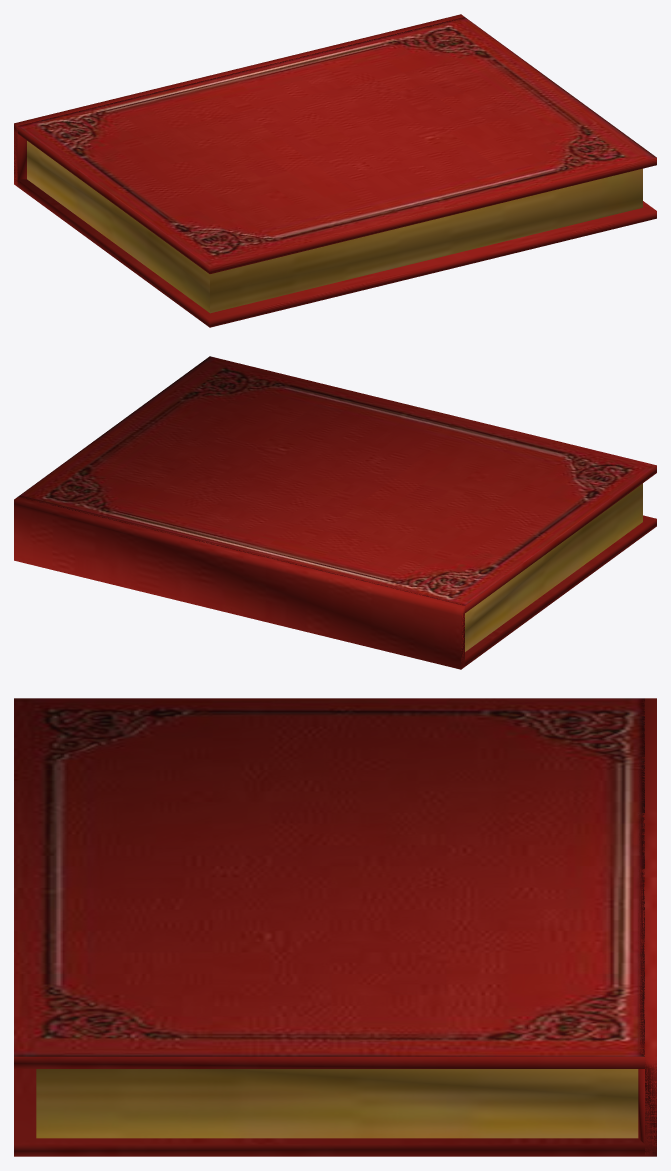
Rendered from Book.obj.
3 views of the same model, one above another, from view 1: azimuth 30°, elevation 25°; view 2: azimuth 150°, elevation 25°; view 3: azimuth 270°, elevation 25° (orthographic). The views are drawn at different scales.
Parts seen in each view (by area): view 1: Book.obj; view 2: Book.obj; view 3: Book.obj.
Boxes of the visible parts, bbox=[...] form: Book.obj: bbox=[14, 14, 656, 327]; Book.obj: bbox=[14, 356, 656, 669]; Book.obj: bbox=[14, 698, 656, 1156].
Bounding box in the file's own units: 4.02 × 0.5245 × 3.05.
